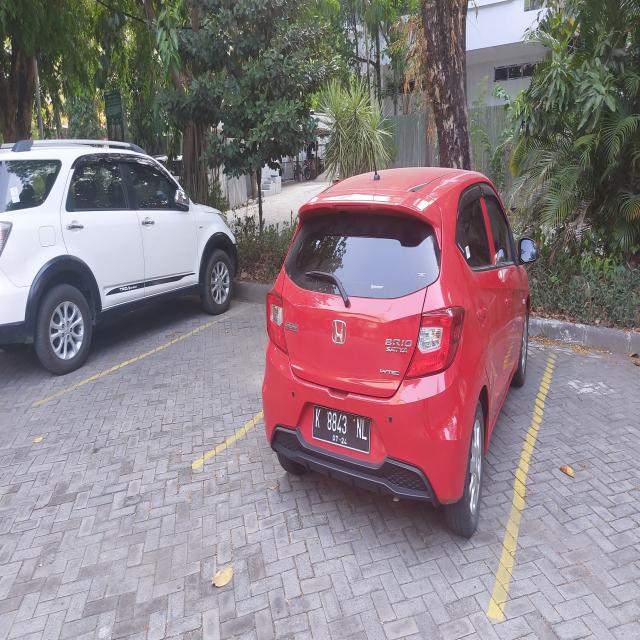empty: (35, 299, 267, 467)
occupied: (196, 165, 558, 610), (0, 144, 257, 403)
